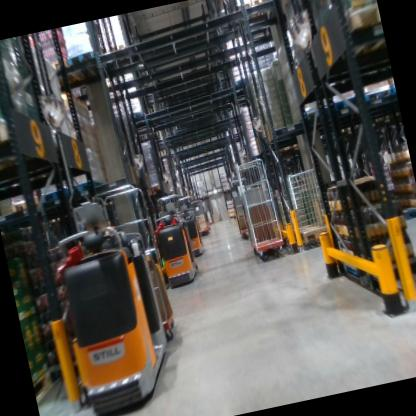forklift: (191, 191, 218, 238)
pallet: (331, 239, 416, 302), (329, 2, 386, 69), (0, 110, 45, 182), (65, 43, 110, 89), (41, 47, 81, 94), (31, 360, 64, 402), (66, 172, 112, 201), (292, 220, 335, 251), (325, 89, 364, 115), (5, 190, 40, 218), (294, 100, 334, 124), (34, 183, 72, 208), (267, 117, 297, 146), (358, 85, 395, 108), (228, 0, 257, 26), (125, 107, 148, 131), (251, 0, 276, 19)
pallet_truck: (34, 200, 205, 416), (141, 182, 205, 306), (170, 197, 207, 263)
